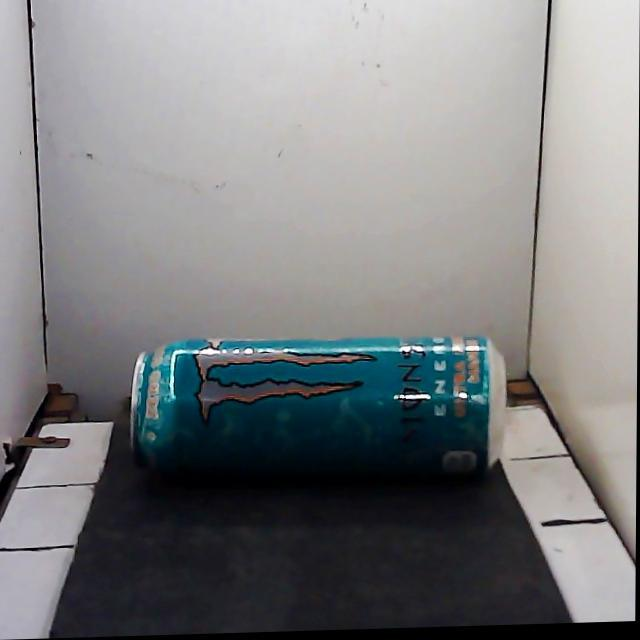metal: (130, 335, 505, 474)
